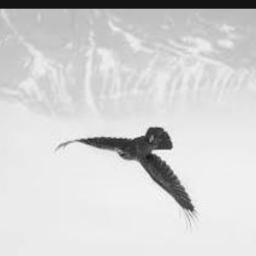Crow: (52, 127, 200, 231)
